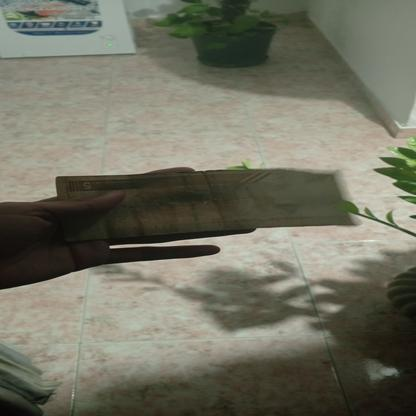five-back-vef: (55, 167, 358, 242)
